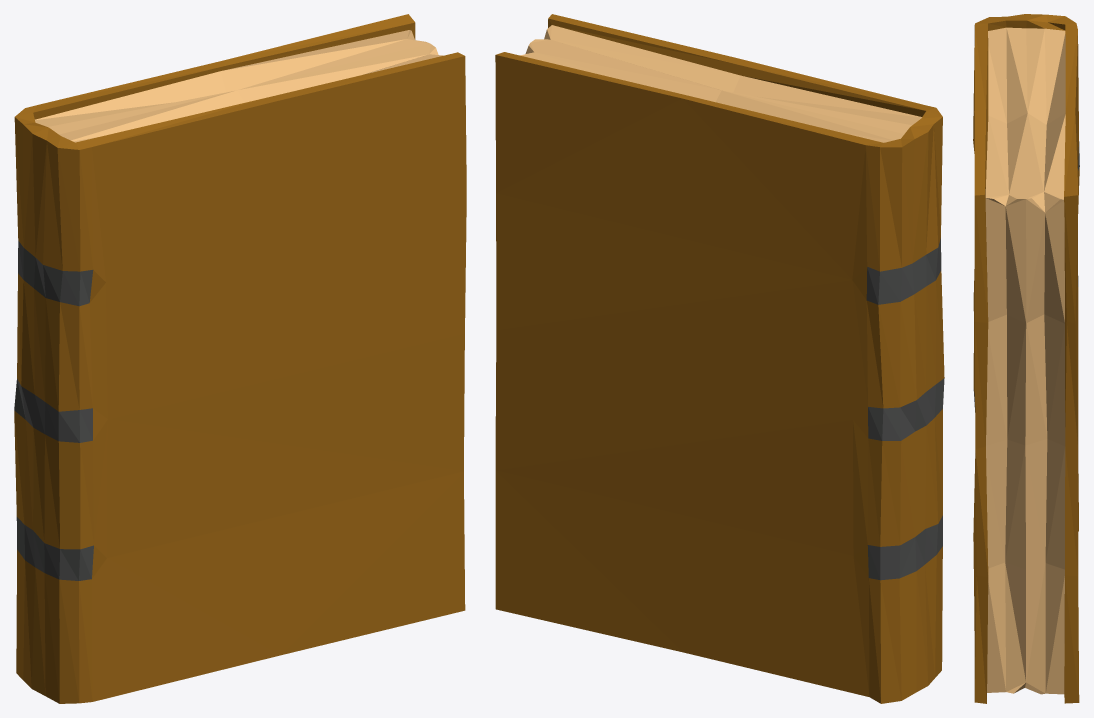
Rendered from SFI_Book_027.fbx.
The picture shows the model from 3 angles, left to right: view 1: azimuth 30°, elevation 25°; view 2: azimuth 150°, elevation 25°; view 3: azimuth 270°, elevation 25°; orthographic projection. The views are drawn at different scales.
Visible parts, largest first — view 1: SFI_Book_027; view 2: SFI_Book_027; view 3: SFI_Book_027.
Boxes of the visible parts, <box> form: SFI_Book_027: <box>14,14,466,703</box>; SFI_Book_027: <box>495,14,944,703</box>; SFI_Book_027: <box>973,14,1079,703</box>.
Size of the model in its own units: 27.81 by 36.47 by 6.9.
